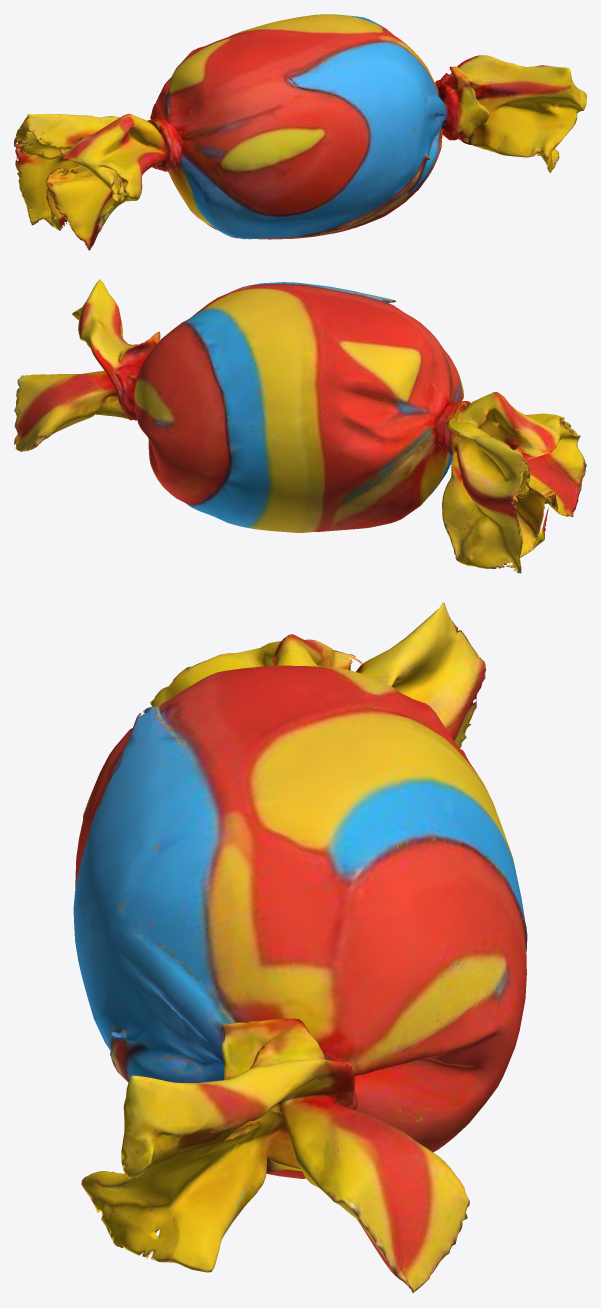
The picture shows the model from 3 angles, top to bottom: view 1: azimuth 30°, elevation 25°; view 2: azimuth 150°, elevation 25°; view 3: azimuth 270°, elevation 25°; orthographic projection. The views are drawn at different scales.
Size of the model in its own units: 1.99 by 0.7705 by 0.7984.
Materials: 1 (1 with a texture image).
